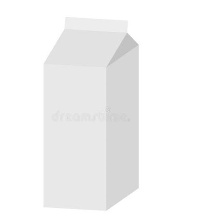carton: (30, 12, 148, 214)
